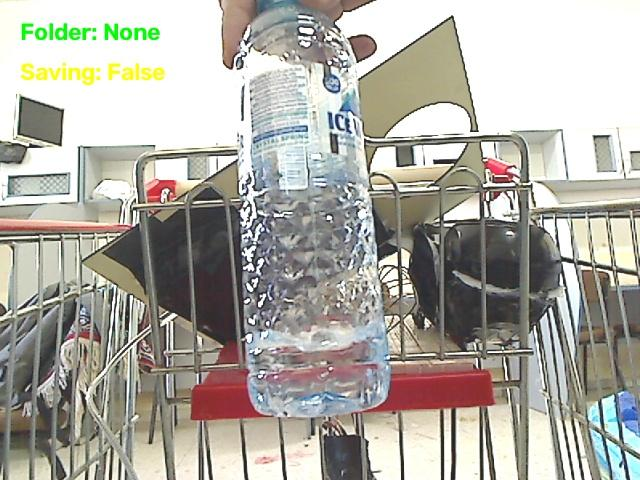Bottle: (235, 0, 390, 416)
